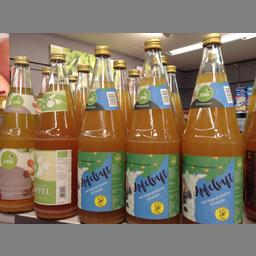juice: (178, 32, 244, 222), (124, 36, 180, 220), (76, 44, 126, 222), (33, 52, 78, 220), (0, 54, 35, 212)
